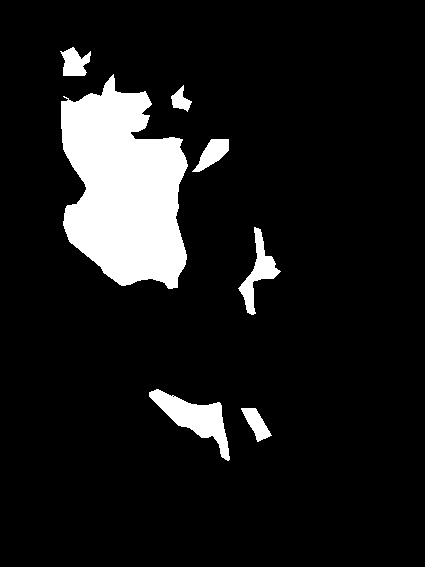Fire: (53, 49, 225, 238), (237, 268, 279, 321)
